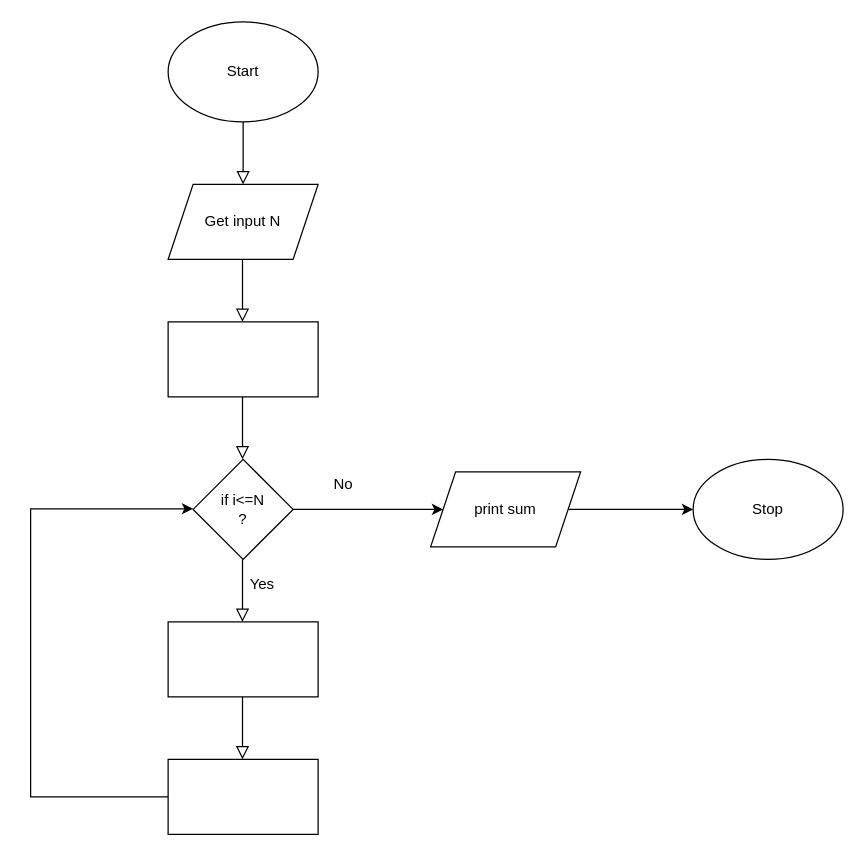
The diagram is 865 pixels wide and 856 high, and some of its shapes have lost their labels. Here are the shapes that lost their labels. From the top down, the centre of each, then its label:
At point 242,359: "i=2, sum=0".
At point 242,659: "sum= sum+i".
At point 242,796: "i = i+2".
